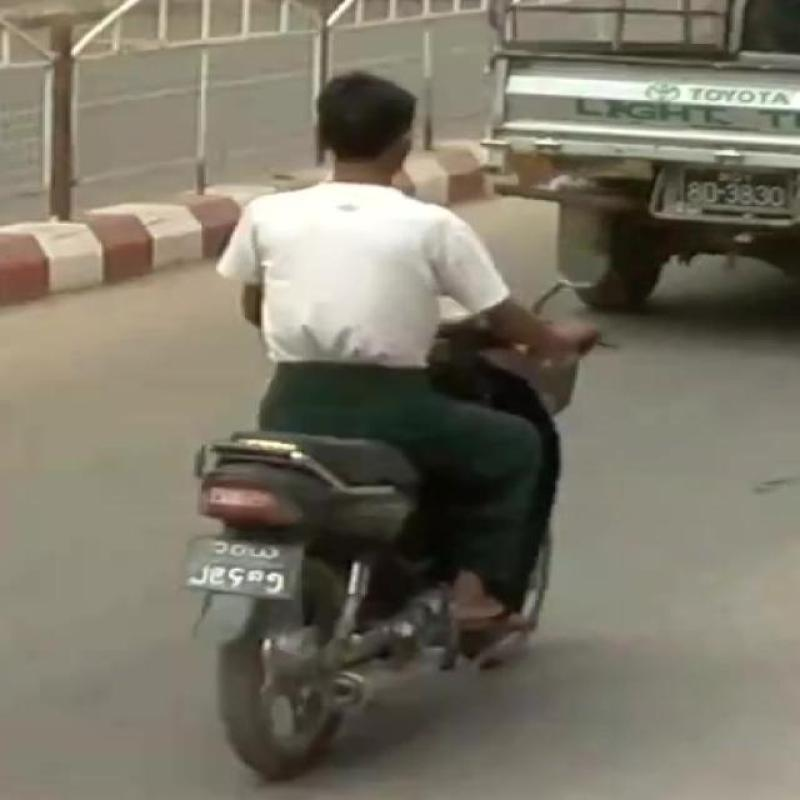nohelmet: (284, 60, 418, 204)
